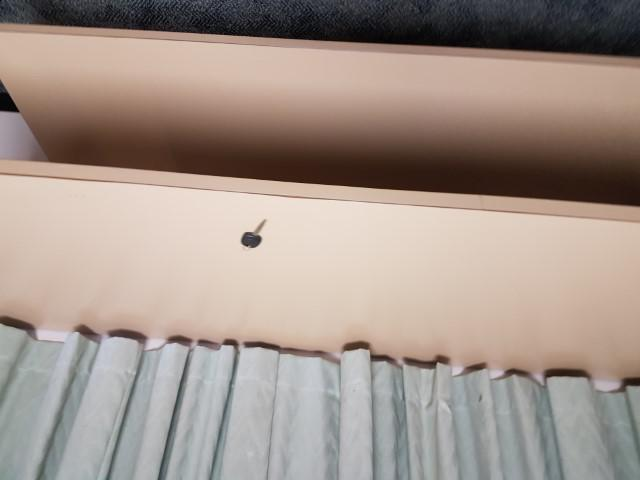key: (242, 217, 267, 247)
